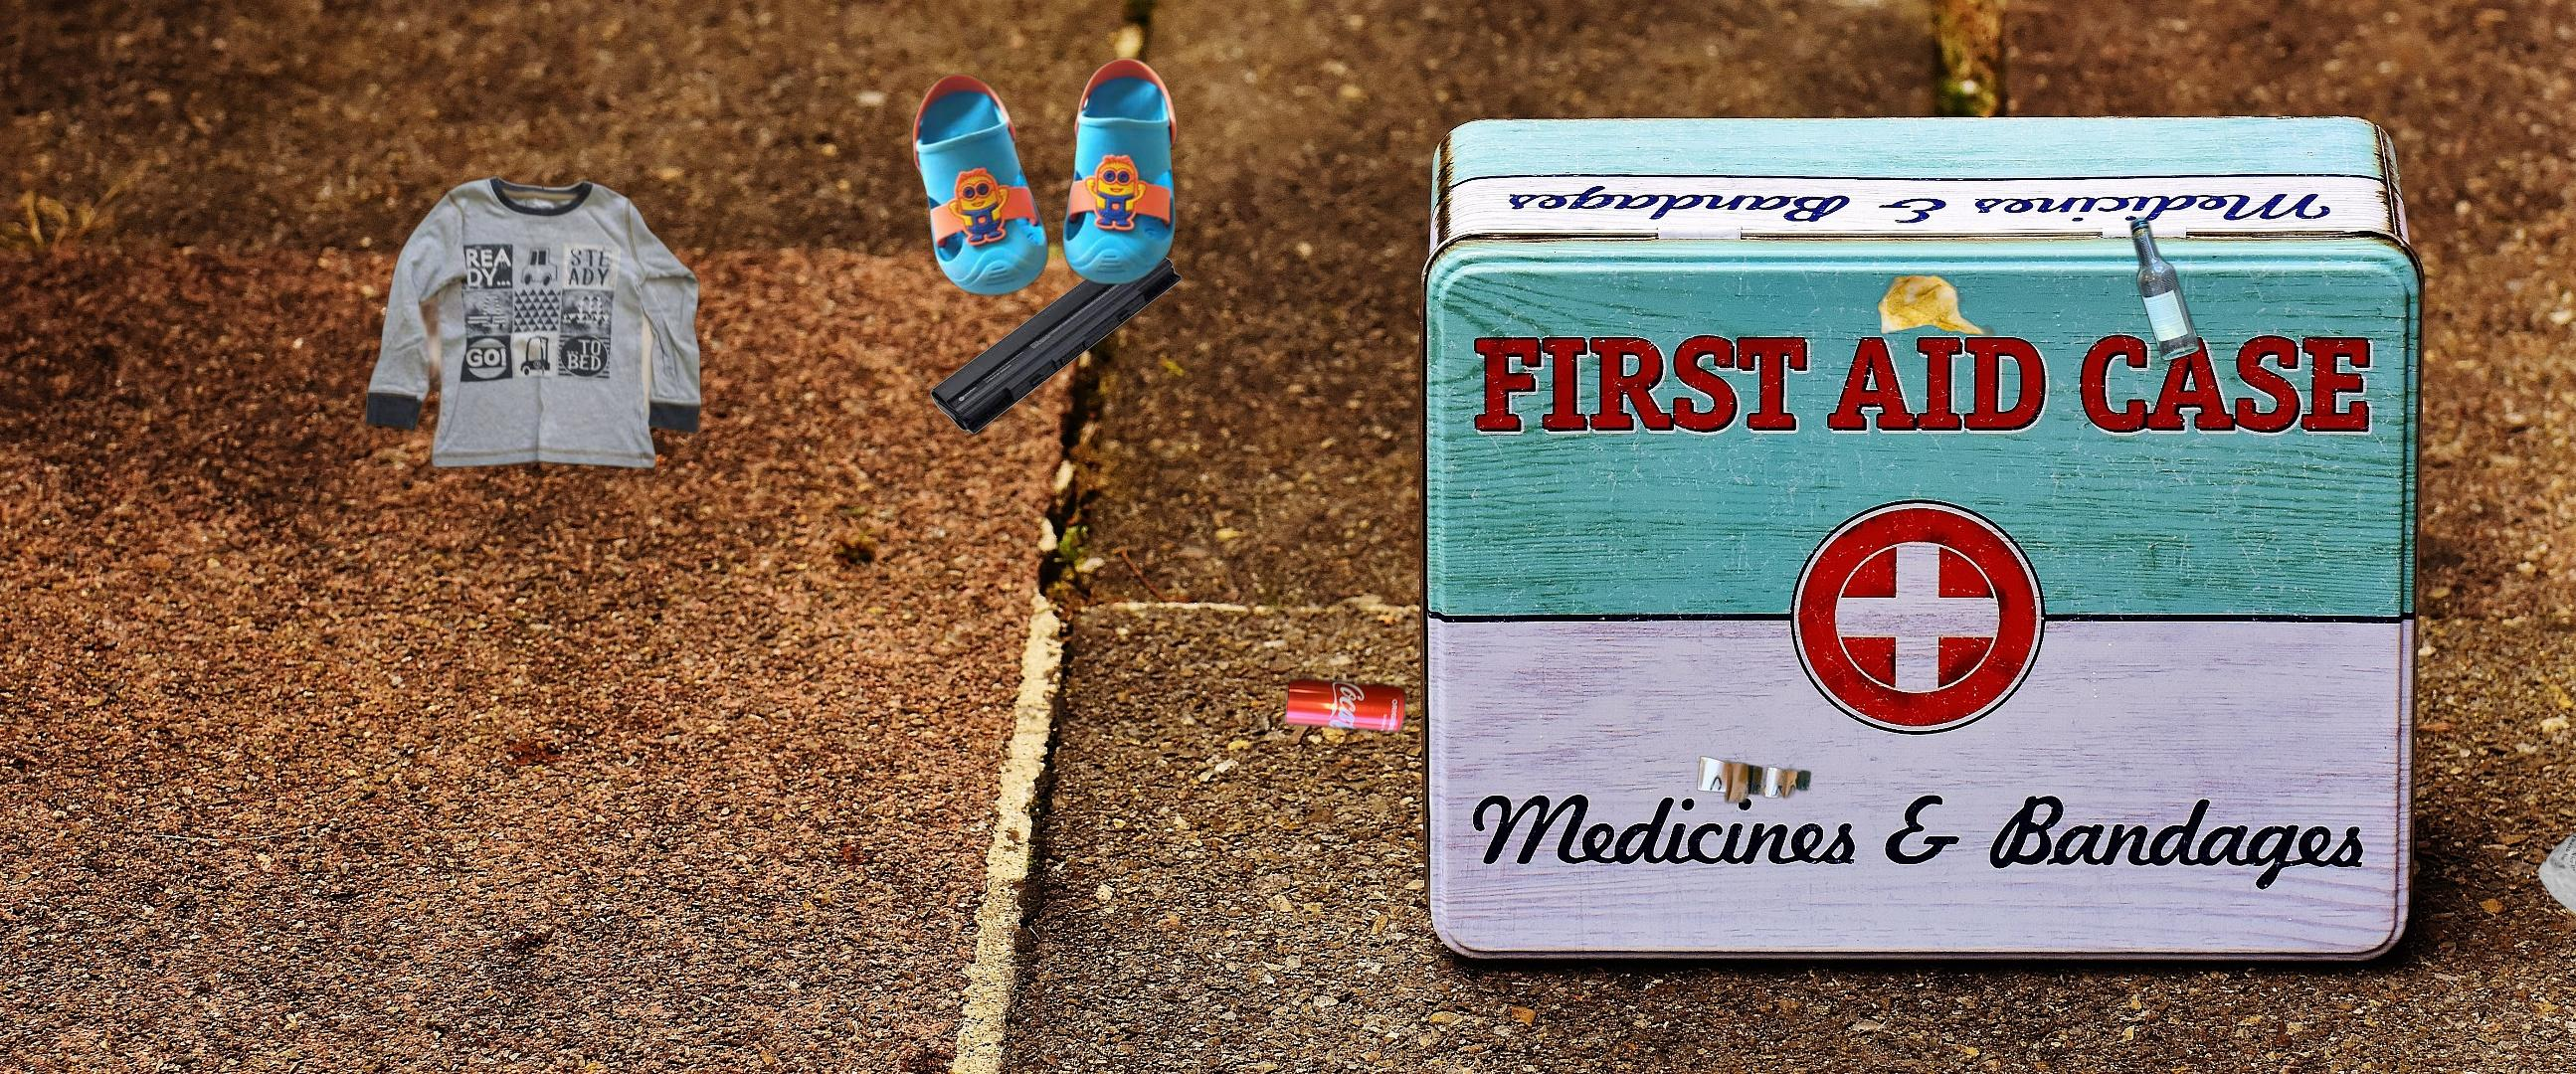battery: (930, 238, 1183, 435)
clothes: (363, 172, 705, 473)
glass: (2126, 212, 2205, 368)
metal-cans: (1280, 672, 1411, 737)
paper-bag: (1694, 755, 1814, 806)
plastic-bag: (2535, 823, 2576, 933)
shoes: (910, 53, 1181, 301)
trash: (1871, 271, 1999, 340)
